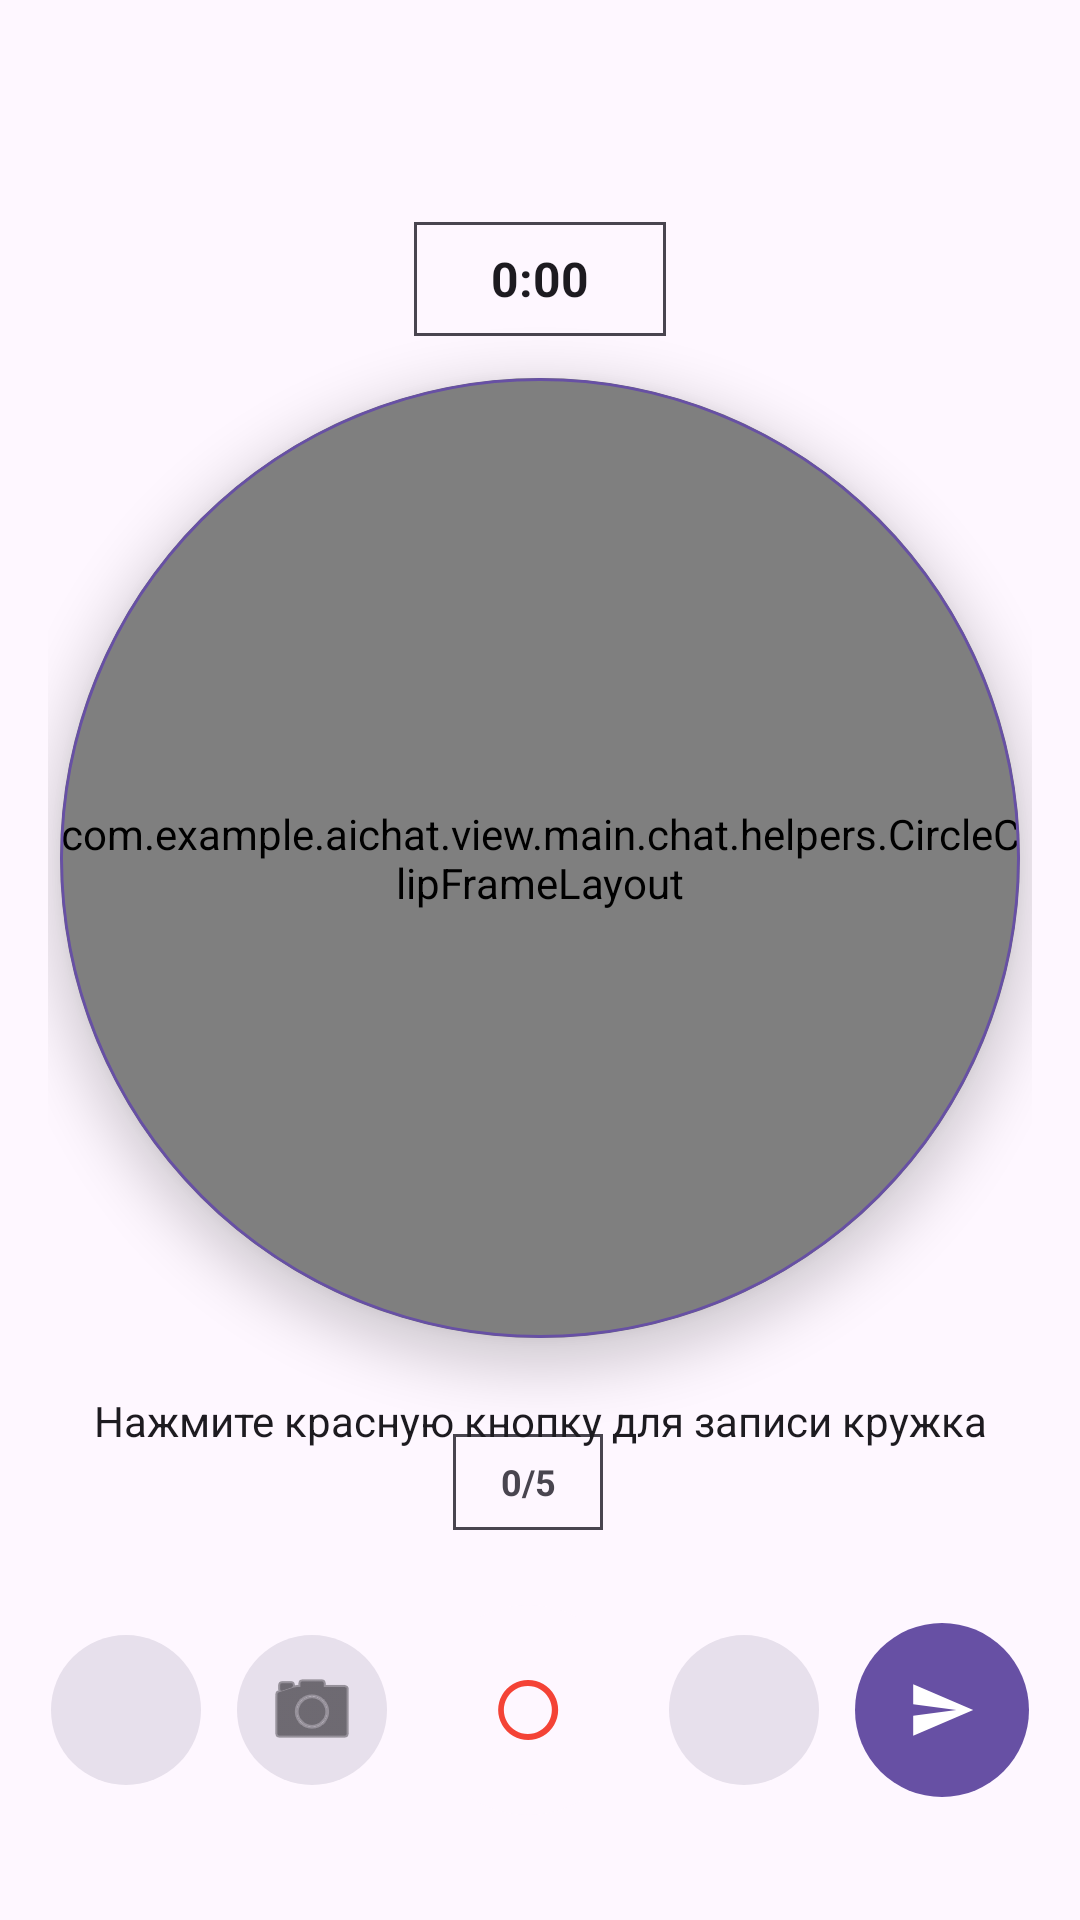

Icons on this 1080 × 1920 Android screen, each with its box as (x1, y1, x2, y2):
Запись / пауза / продолжить: (498, 1680, 558, 1740)
Отправить: (855, 1623, 1029, 1797)
Сменить камеру: (275, 1679, 349, 1738)
